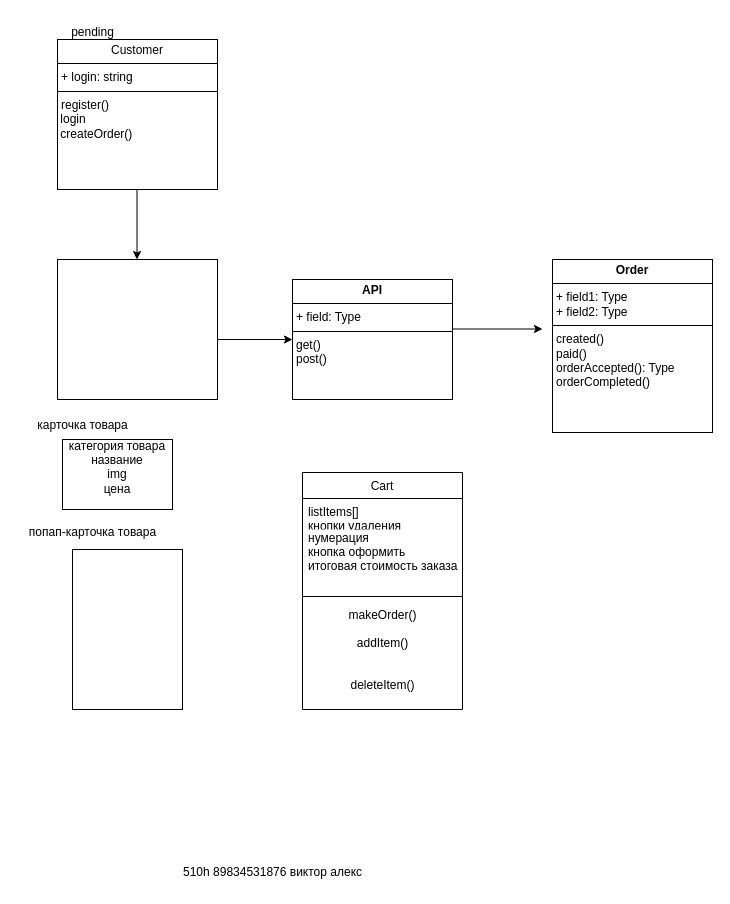
This 730x904 diagram has some shape labels left out. The centre of each missing label's shape, as x and y in pixels:
restraunt + field: Type getNewOrder() updateOrderStatus(): the point at 137,329
категория товара название описание img кнопка добавить в корзину цена: the point at 127,629
